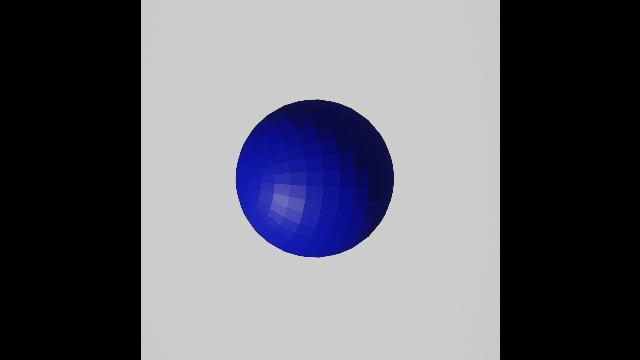Sphere: (228, 90, 402, 268)
